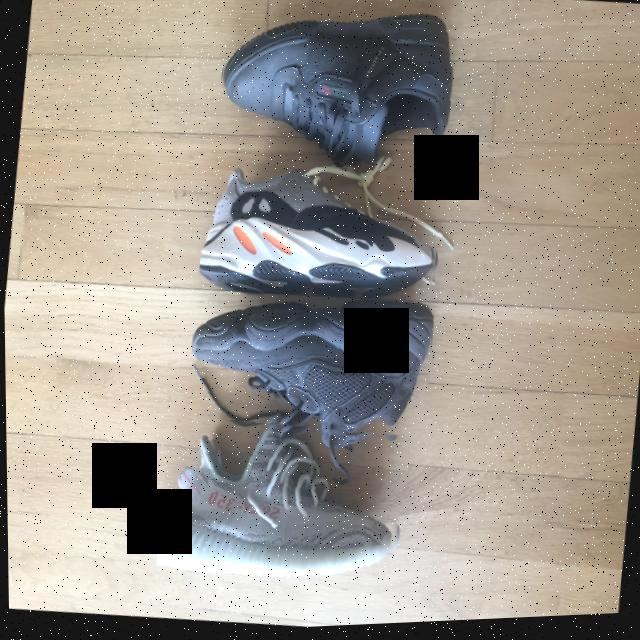shoe: (153, 407, 413, 592), (211, 0, 460, 187), (179, 282, 436, 462), (194, 153, 447, 321)
